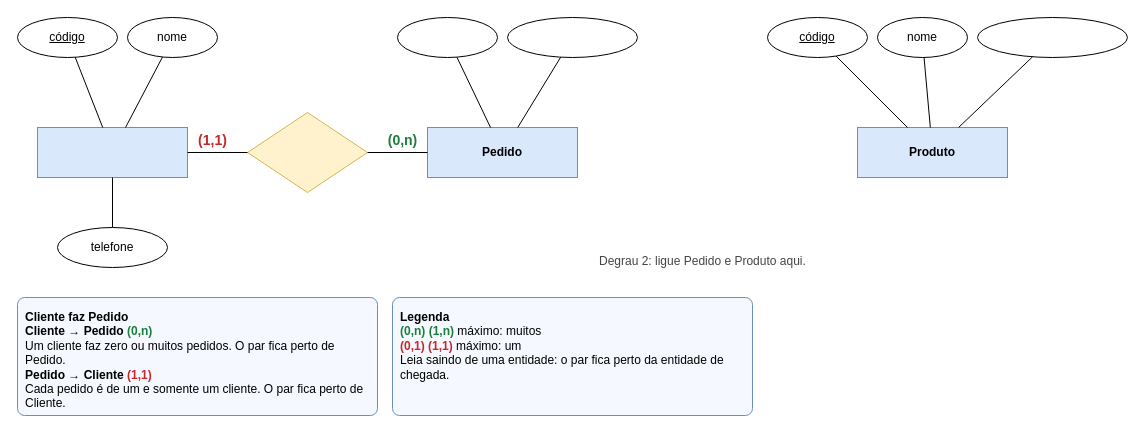
Image size: 1145x433. Some labels were removed from this diagram. The centre of each missing label's shape, as x and y in pixels:
"Cliente" belongs at pixel 112 152.
"data e hora" belongs at pixel 572 37.
"faz" belongs at pixel 307 152.
"número" belongs at pixel 447 37.
"preço de tabela" belongs at pixel 1052 37.
